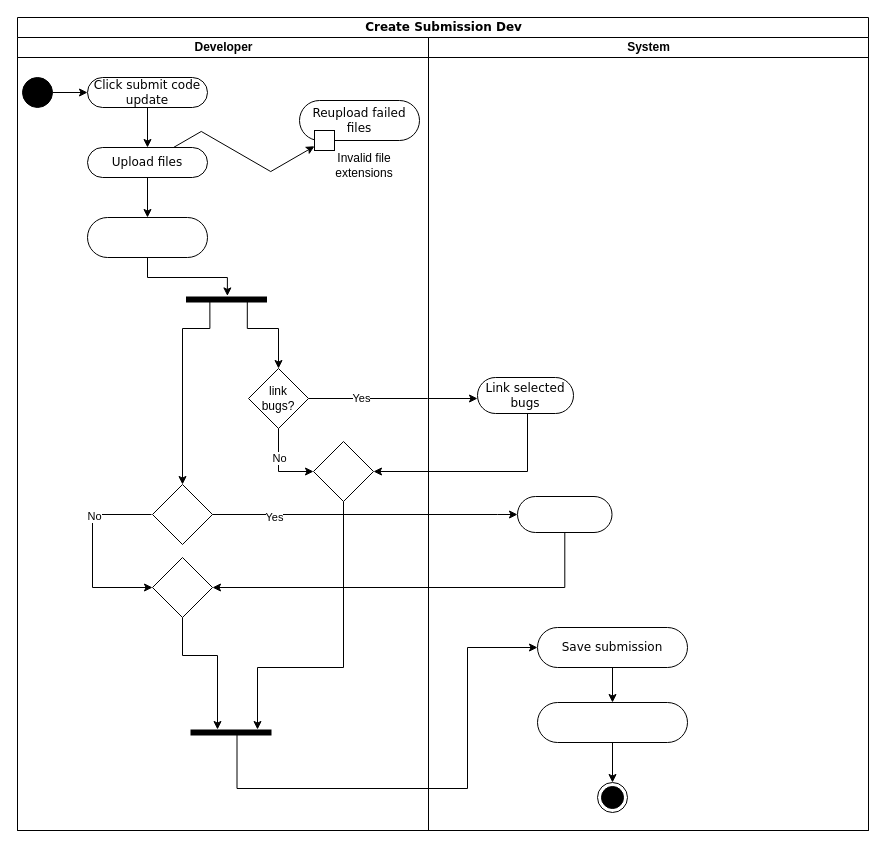
Image size: 886x848. Some labels were removed from this diagram. The centre of each missing label's shape, as x and y in pixels:
"Enter submission details" belongs at pixel 147 237.
"Link selected tasks" belongs at pixel 564 514.
"link tasks?" belongs at pixel 182 514.
"Show success message" belongs at pixel 612 722.
